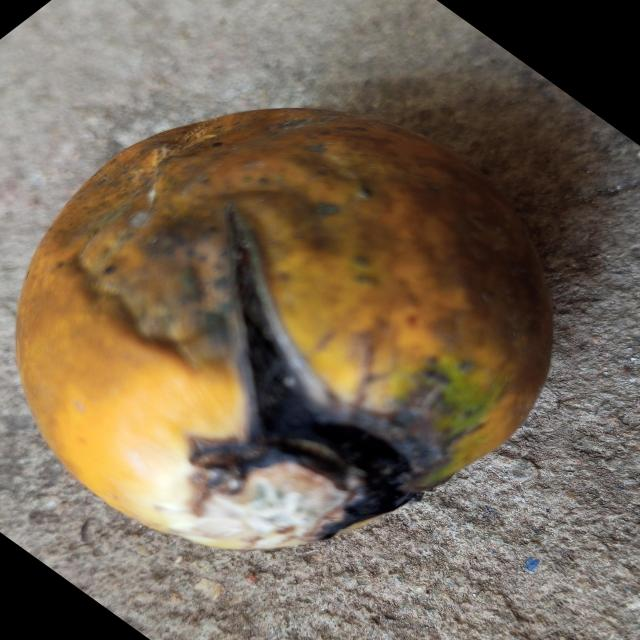damaged: (14, 109, 554, 555)
